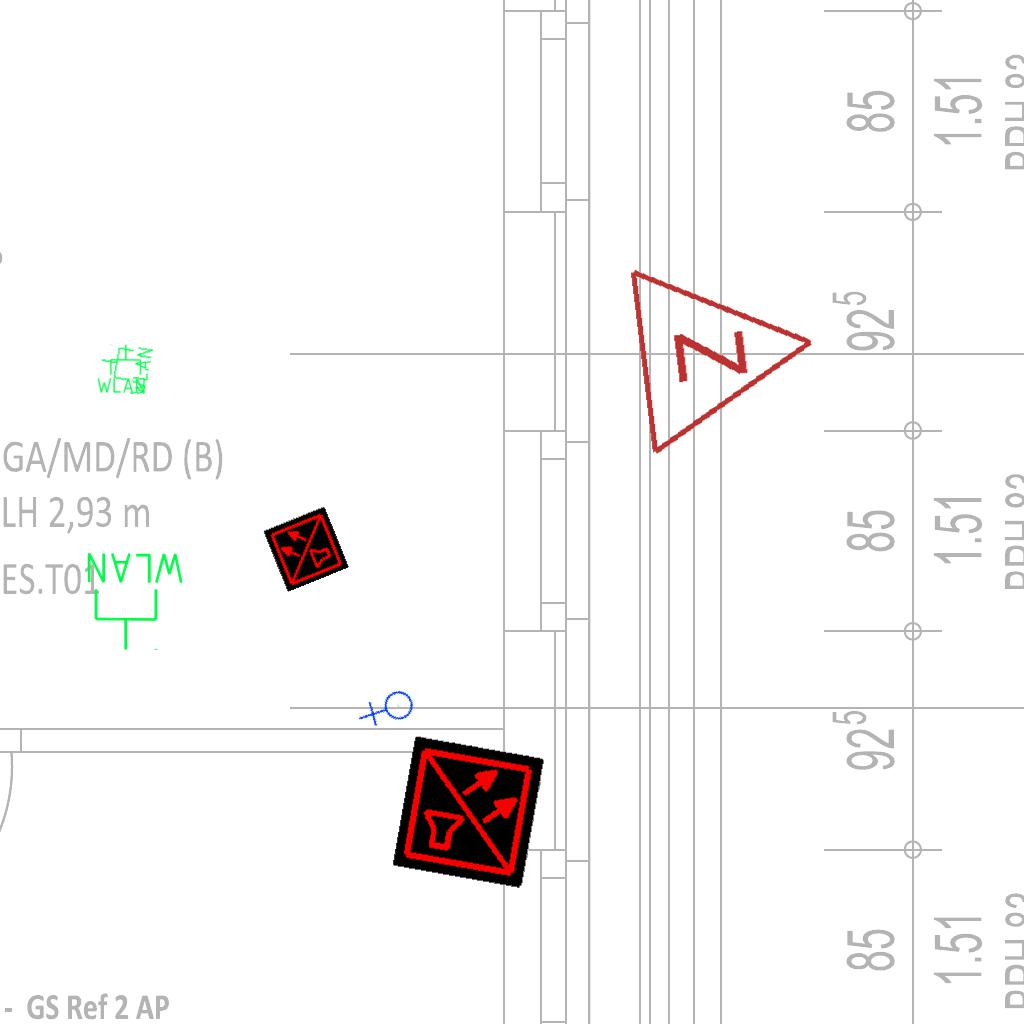Elektroanschluss_allgemein_230V_Geraeteanschlussdose_230V: (357, 678, 422, 743)
OKW_Multisensormelder_(Kombination_optischer_Rauch-Kahlenmonoxid_Waerme-Melder): (392, 735, 546, 889), (263, 506, 349, 592)
WLAN: (83, 549, 188, 653), (94, 338, 156, 400), (95, 343, 147, 395)
Zimmersignalleuchte: (614, 240, 838, 460)
